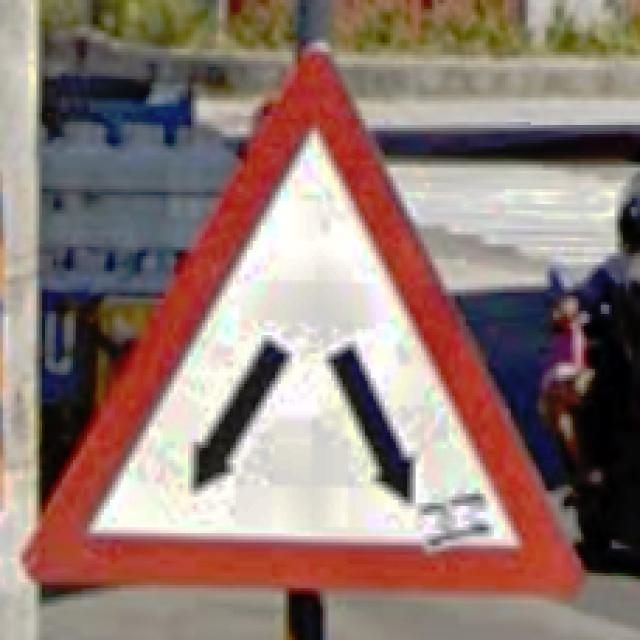diverge: (22, 40, 587, 603)
